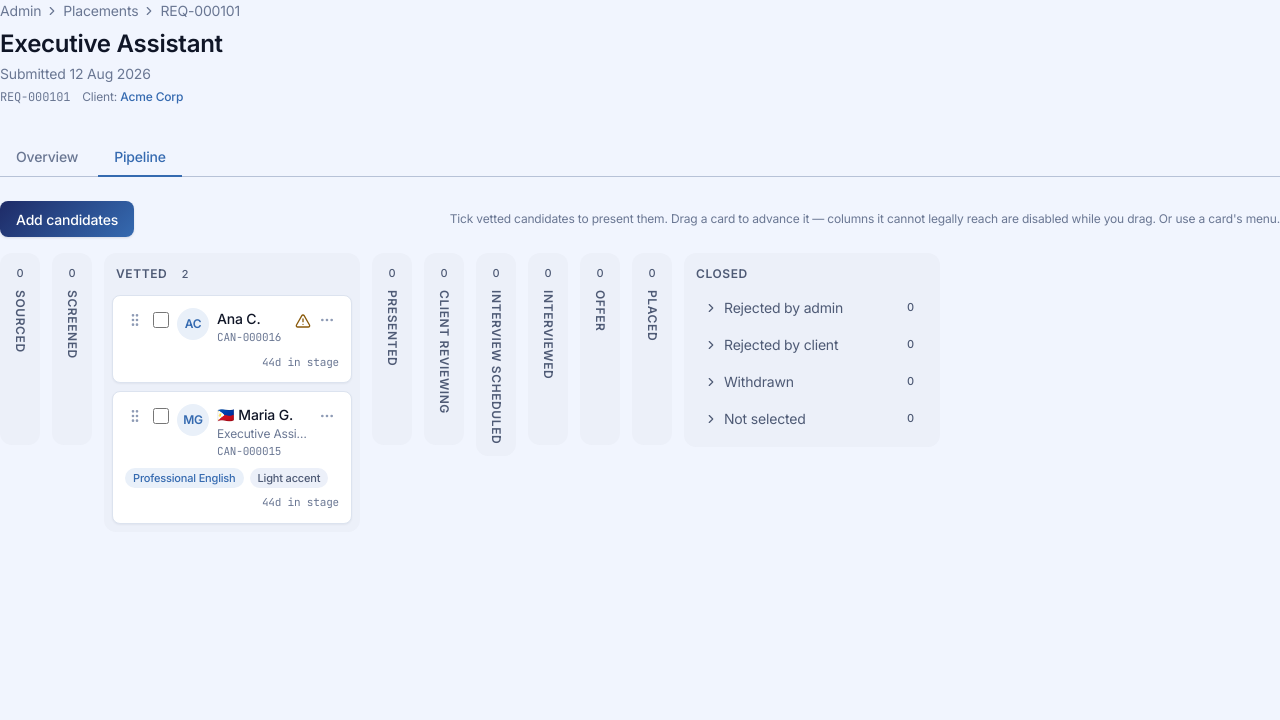
Test: present flow › blocks the confirm while any selected candidate lacks consent
This screenshot has width=1280, height=720.
Expected: the text "Maria G." is shown, x1=238 y1=406 x2=293 y2=423
Click the checkbox named "Select Ana C. for presentation". click: x=161, y=320
box: x1=153 y1=312 x2=169 y2=328
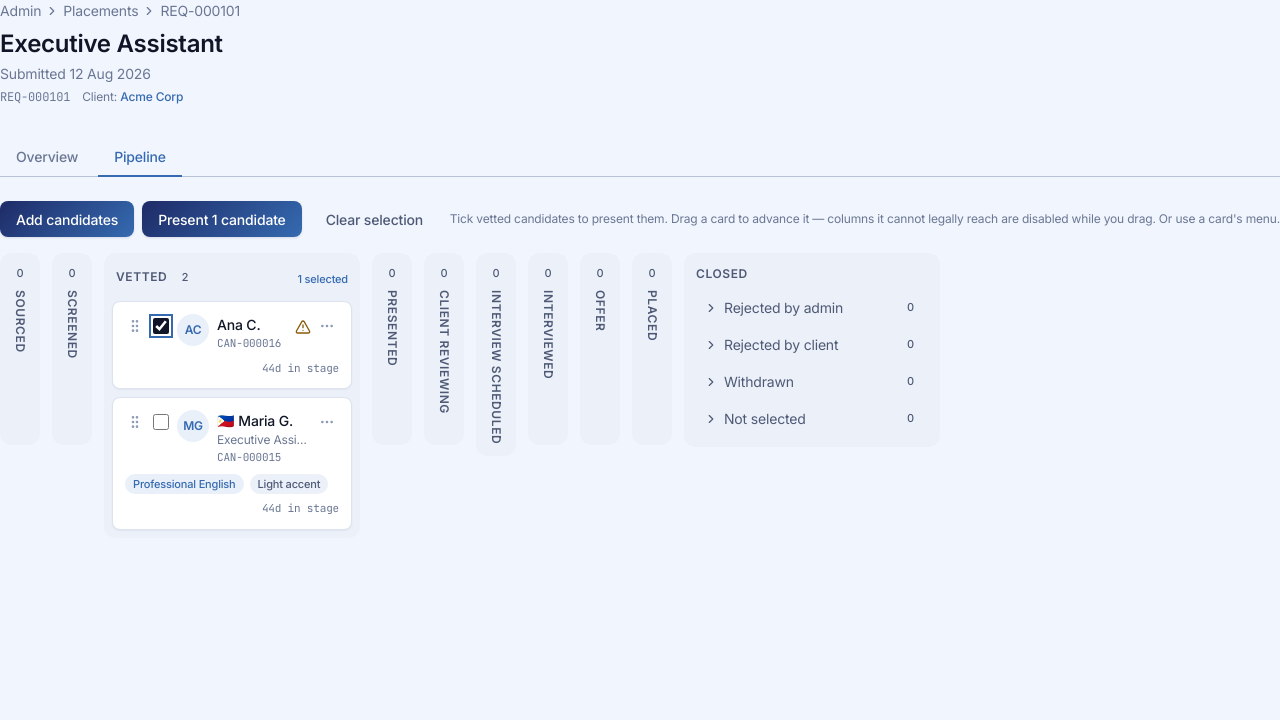
Click the checkbox named "Select Maria G. for presentation". click: x=161, y=422
box: x1=153 y1=414 x2=169 y2=430
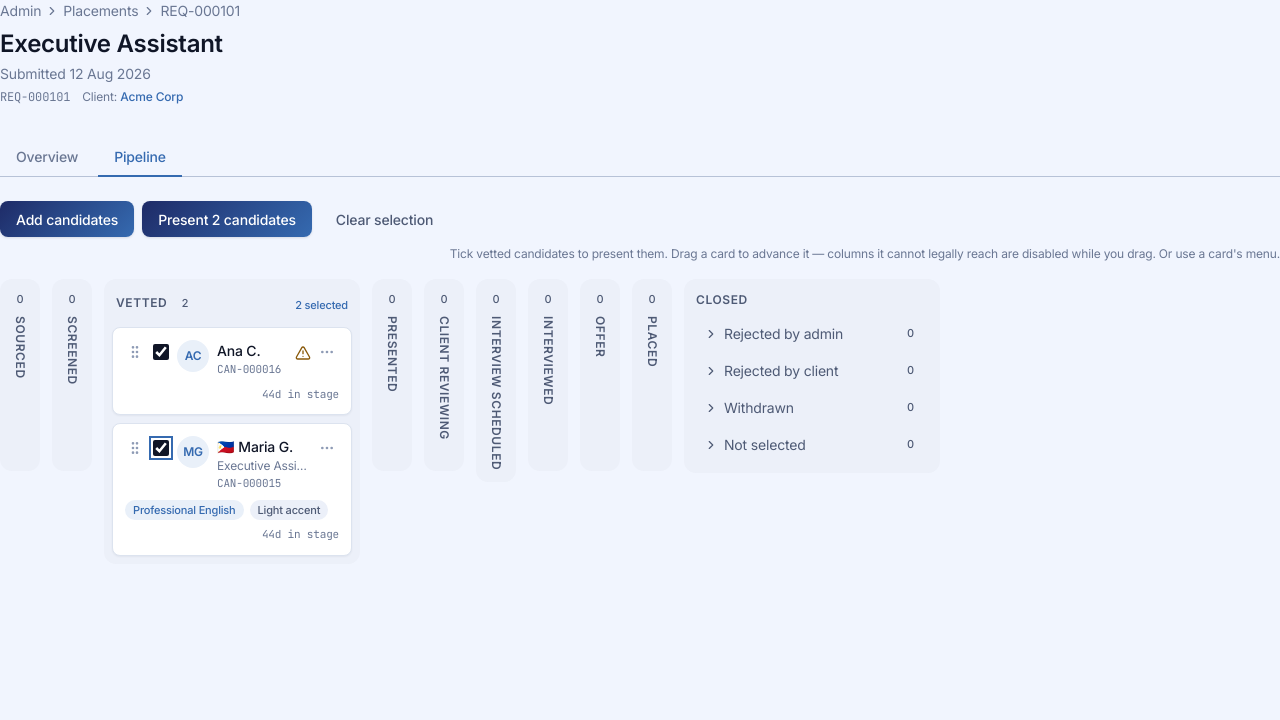
Click the button "Present 2 candidates". click: x=227, y=219
box: x1=142 y1=201 x2=312 y2=237
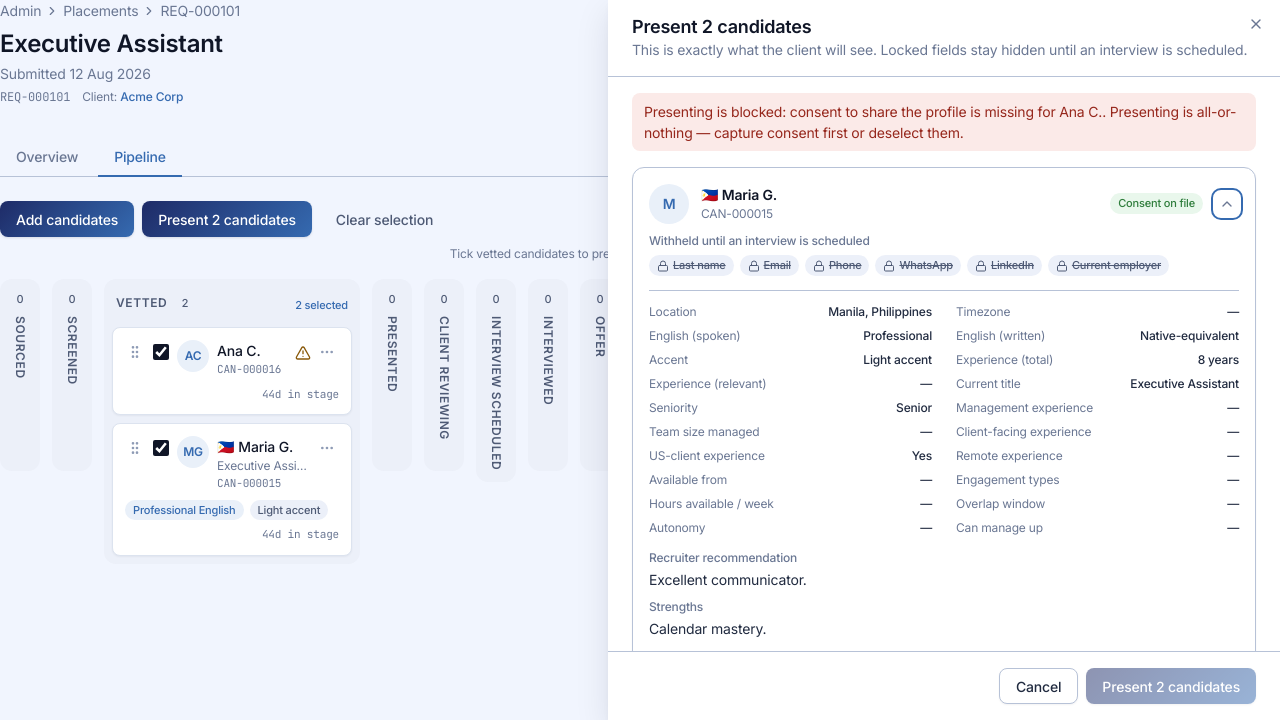
Now the list item with aria-label "Client preview for Maria G." is shown, box x1=632 y1=166 x2=1256 y2=651
Now the button "Present 2 candidates" is disabled, box x1=1086 y1=668 x2=1256 y2=704
